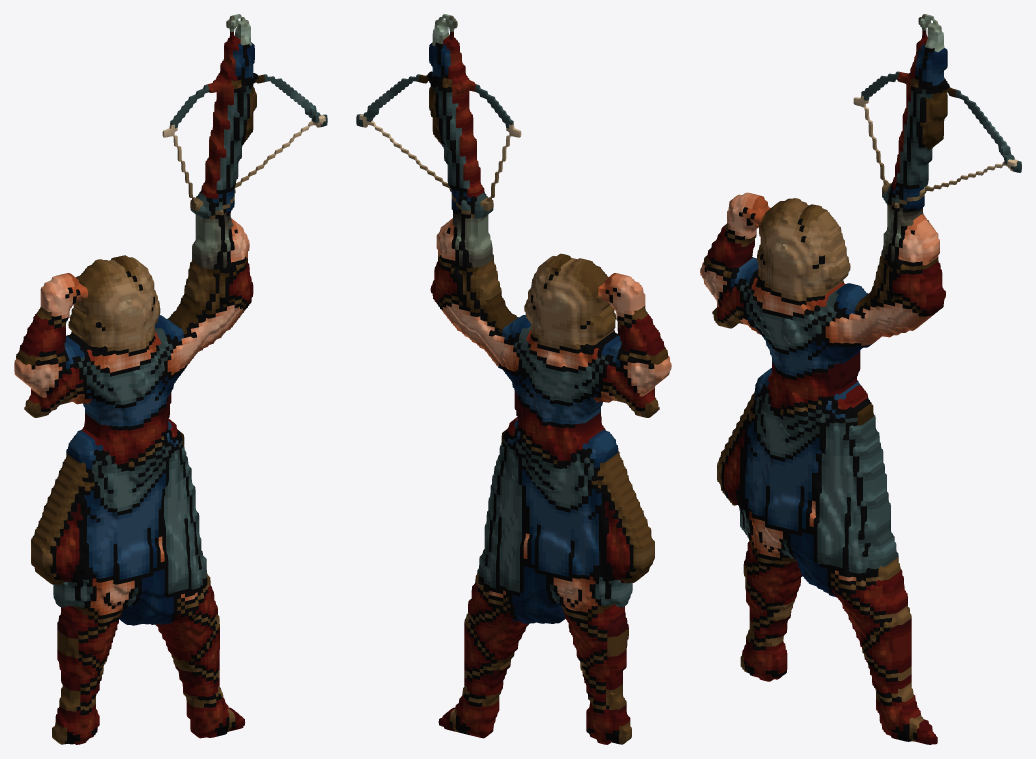
The model's file is Fight_006_2_04.obj.
The picture shows the model from 3 angles, left to right: view 1: azimuth 30°, elevation 25°; view 2: azimuth 150°, elevation 25°; view 3: azimuth 330°, elevation 25°; orthographic projection. The views are drawn at different scales.
Bounding box in the file's own units: 8.28 × 18.18 × 1.7.
Materials: 1 (1 with a texture image).
